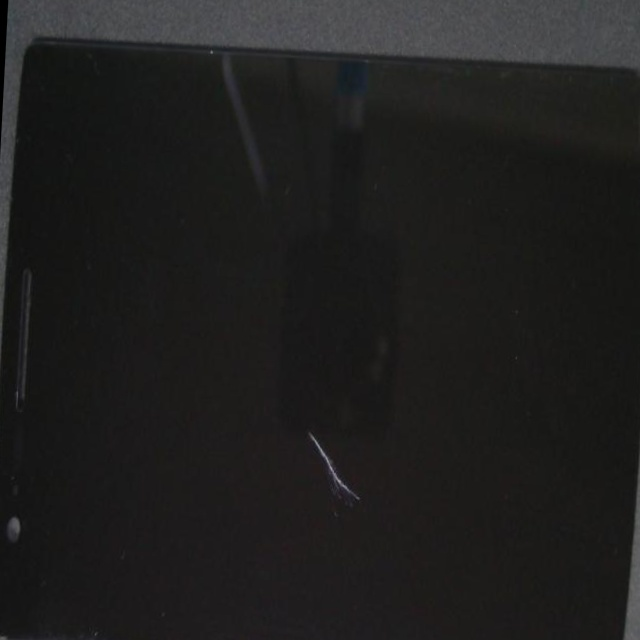scratch: (101, 142, 489, 640)
